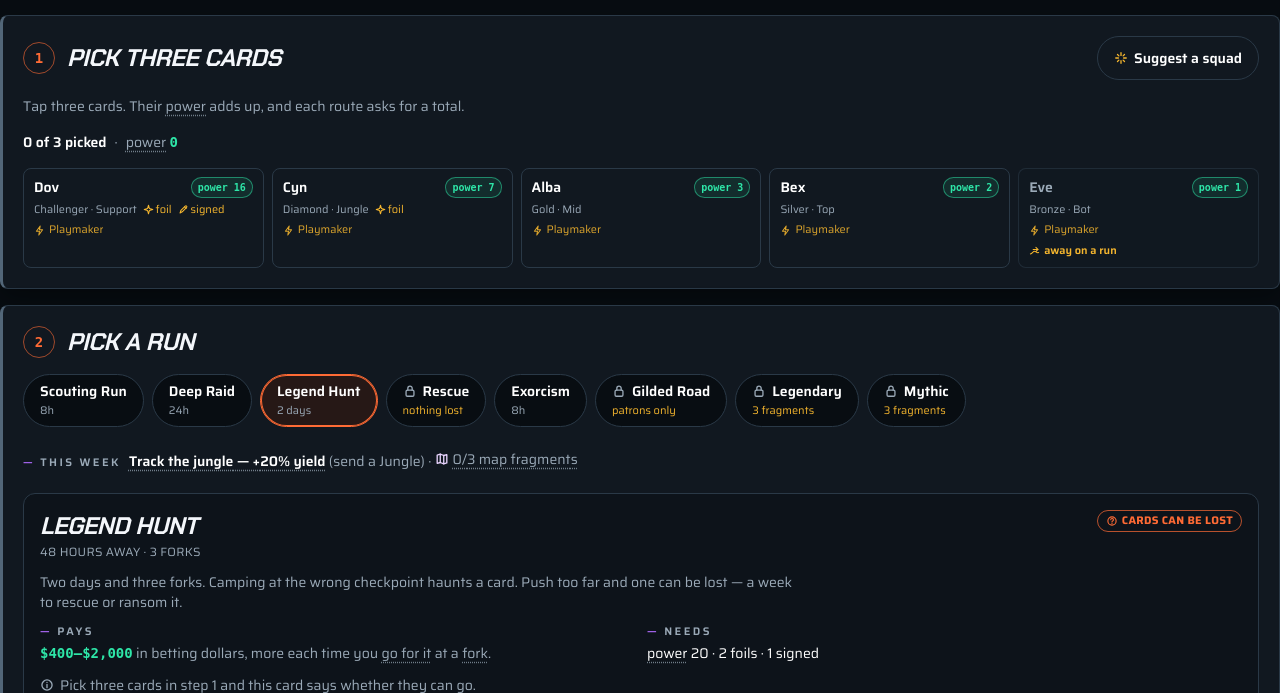
Test: ExpeditionBoard — tier cards › prints each tier's entry requirements and duration, in the board's word for shine
The width and height of the screenshot is (1280, 693).
(page scrolled)
Click the button "Deep Raid 24h": (202, 400) top-left (152, 374), bottom-right (252, 426)
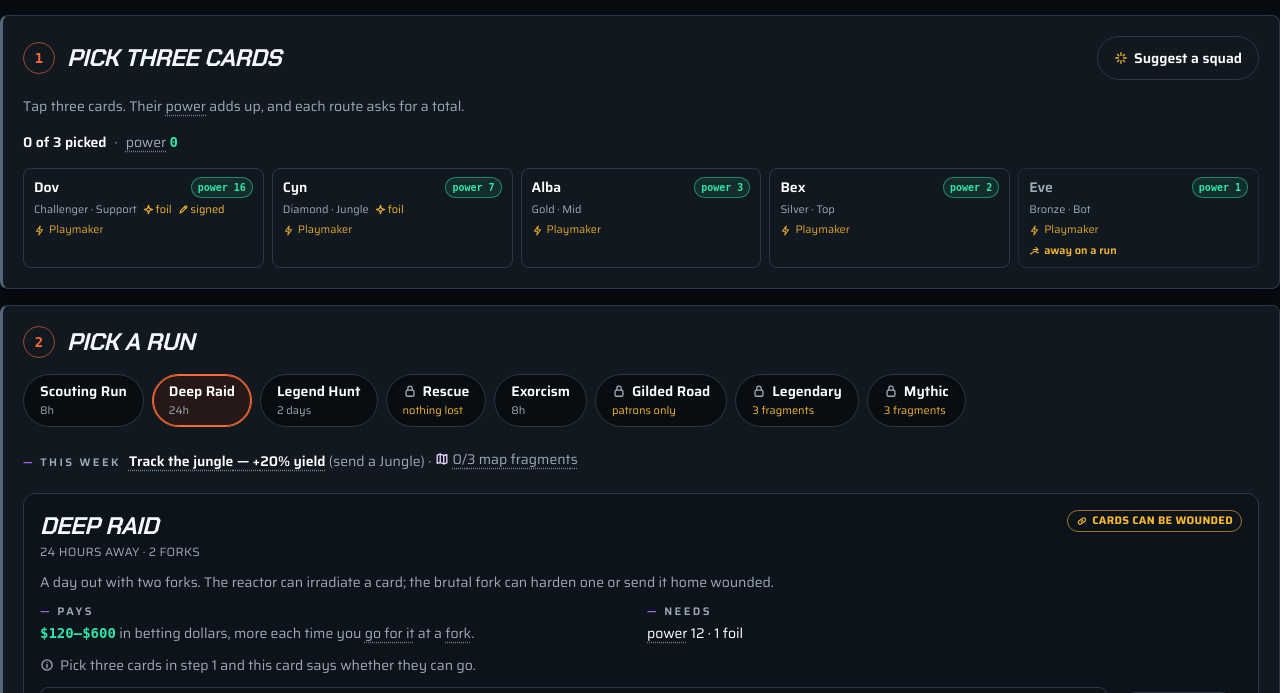
Check: the heading "Deep Raid" is shown, box top-left (40, 510), bottom-right (158, 540)
Check: the text "24 hours away · 2 forks" is shown, box top-left (40, 544), bottom-right (200, 560)
Click the button with test id "route-pill-legend": (319, 400) top-left (260, 374), bottom-right (378, 426)
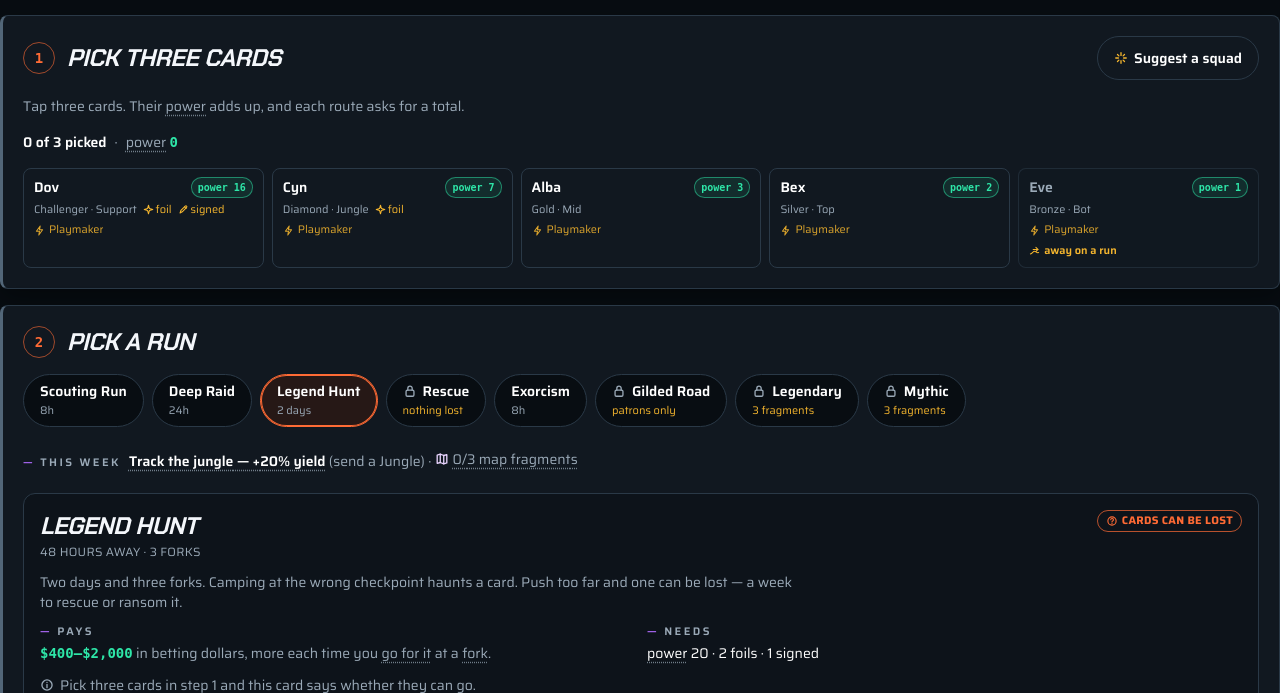
Check: the text "48 hours away · 3 forks" is shown, box top-left (40, 544), bottom-right (201, 560)
Click the button with test id "route-pill-scout": (83, 400) top-left (23, 374), bottom-right (144, 426)
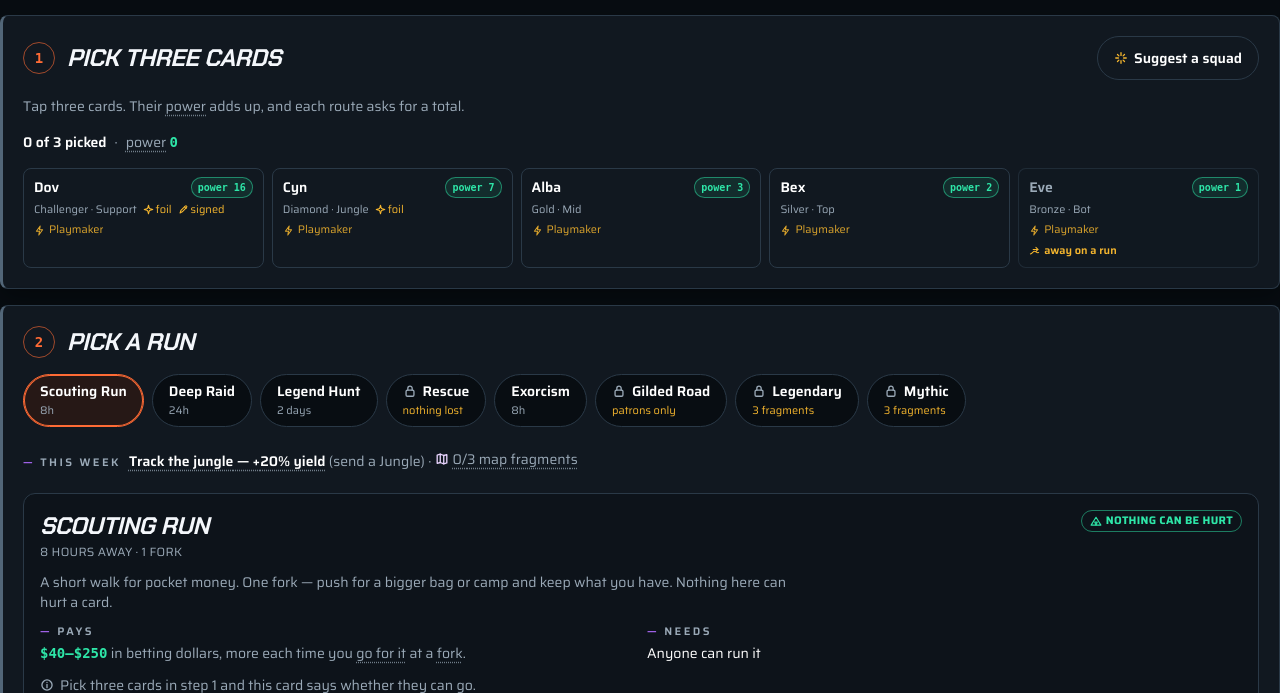
Check: the text with test id "tier-scout-needs" reads "Anyone can run it", box top-left (647, 642), bottom-right (761, 664)
